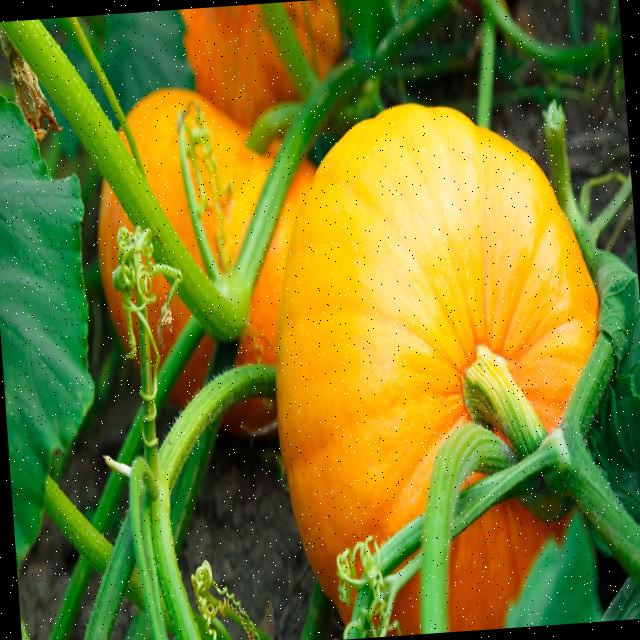pumpkin: (276, 106, 599, 603), (127, 89, 279, 269), (236, 160, 315, 365), (181, 4, 298, 126), (449, 503, 545, 626), (97, 181, 129, 347), (285, 0, 341, 78), (170, 334, 214, 406), (196, 146, 219, 261), (222, 398, 276, 437), (160, 298, 188, 358)
